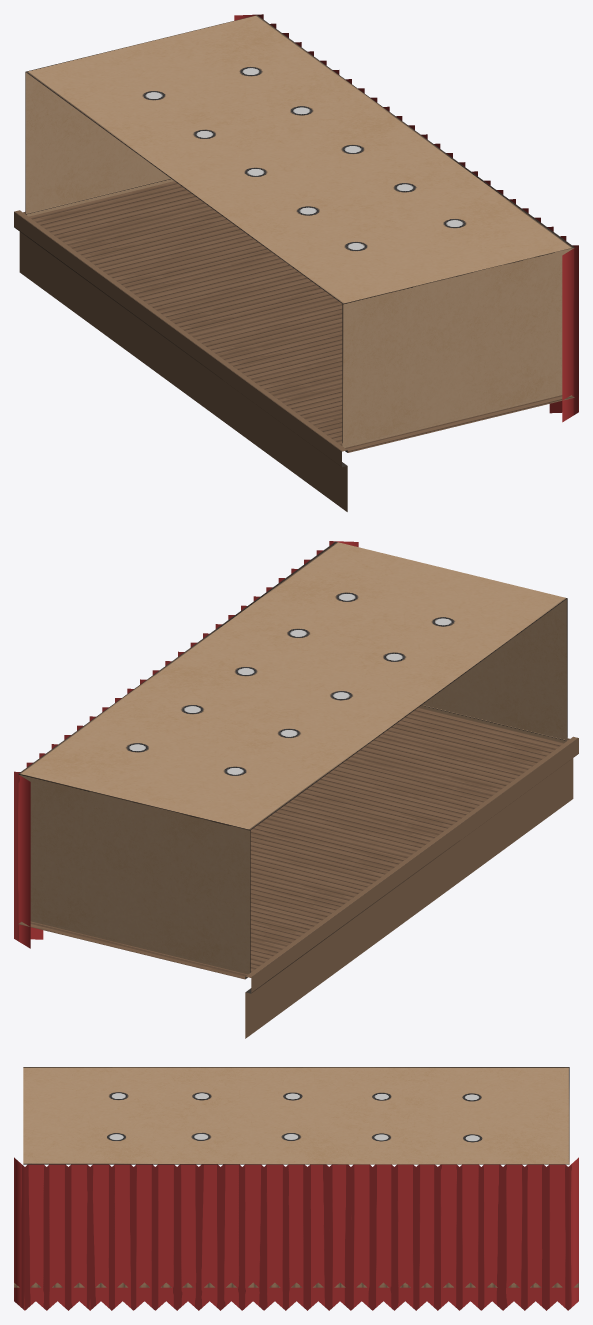
File: Stage.fbx
The picture shows the model from 3 angles, top to bottom: view 1: azimuth 30°, elevation 25°; view 2: azimuth 150°, elevation 25°; view 3: azimuth 270°, elevation 25°; orthographic projection. The views are drawn at different scales.
Parts seen in each view (by area): view 1: Low; view 2: Low; view 3: Low.
Boxes of the visible parts, bbox=[...] form: Low: bbox=[14, 14, 578, 511]; Low: bbox=[14, 541, 578, 1038]; Low: bbox=[14, 1067, 578, 1310].
Size of the model in its own units: 1286 by 1033 by 3000.
Materials: 1 (1 with a texture image).
